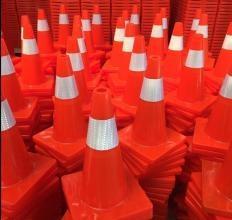cone_barrel: (75, 86, 132, 211), (127, 55, 168, 147), (47, 51, 85, 142), (1, 90, 33, 186), (202, 68, 231, 143), (177, 34, 205, 103), (17, 23, 46, 85), (123, 32, 146, 99), (209, 20, 231, 75), (163, 20, 184, 77), (109, 11, 128, 68), (34, 7, 53, 57), (145, 10, 166, 55), (89, 5, 105, 44), (55, 5, 69, 47), (127, 3, 138, 33)
